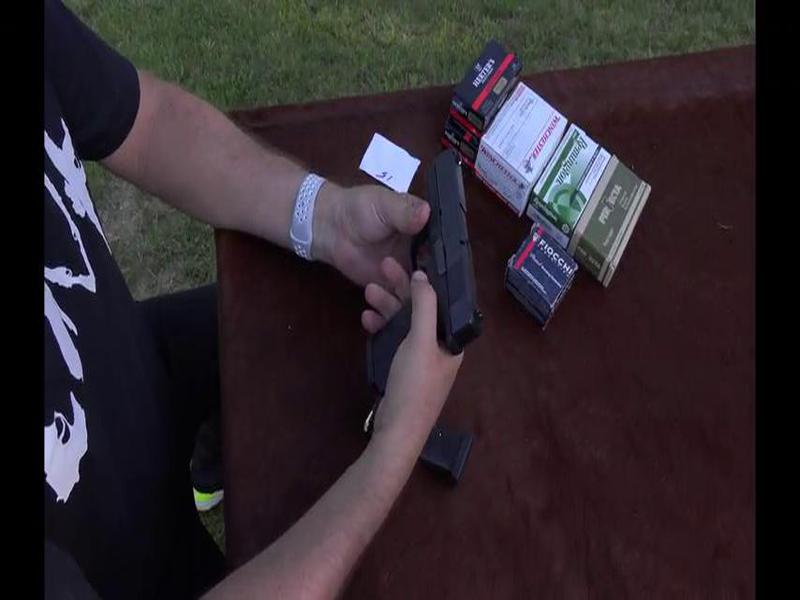Pistola: (360, 147, 498, 390)
